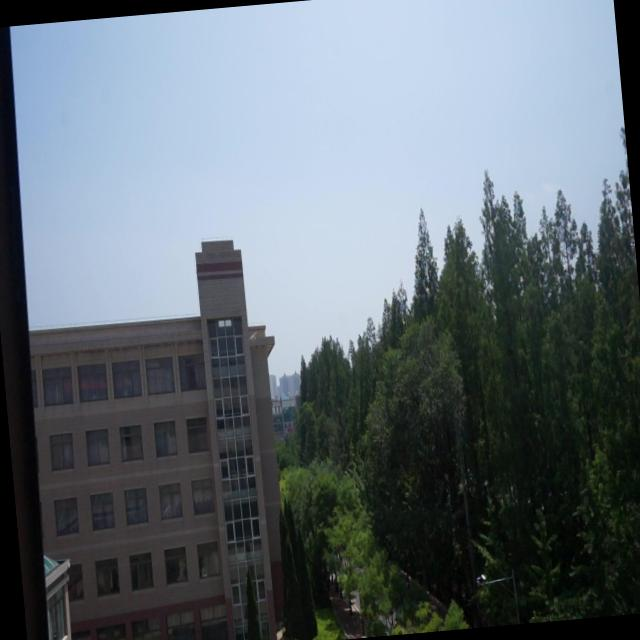drone: (246, 326, 260, 346)
